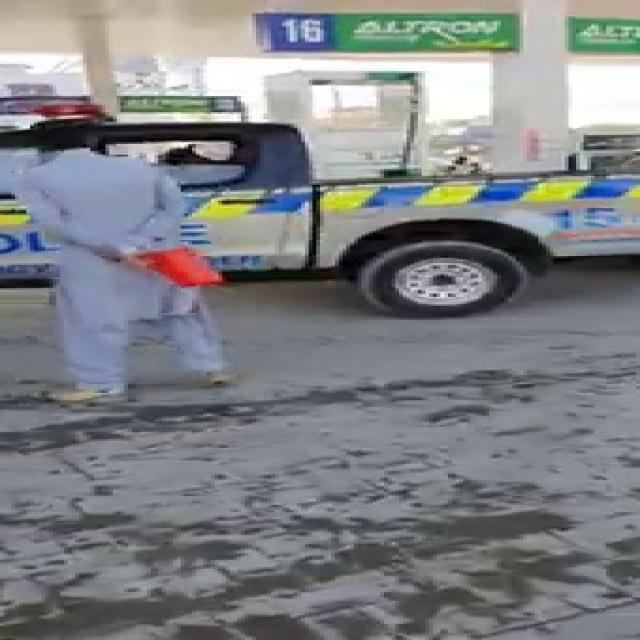police: (5, 81, 640, 346)
